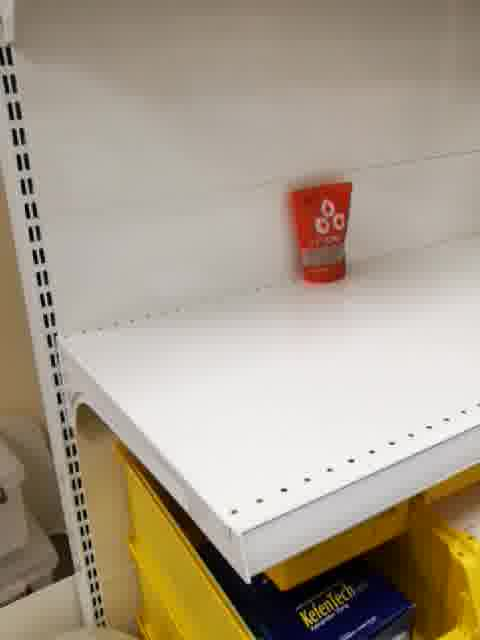whitechia: (286, 180, 352, 286)
